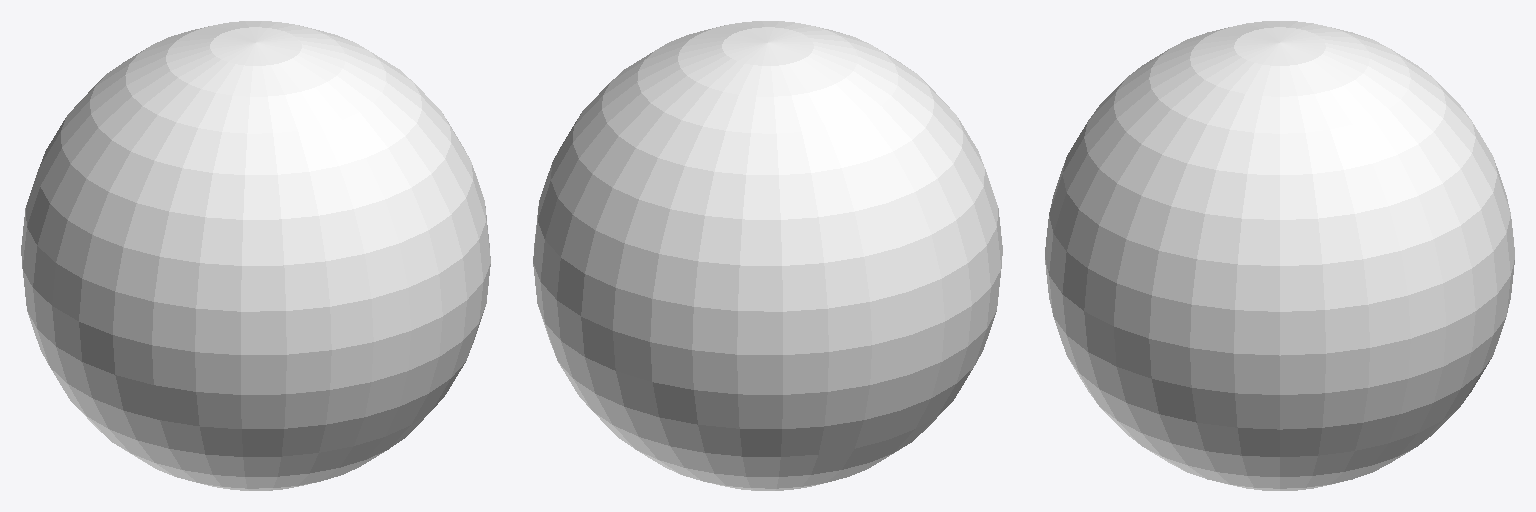
File: sphere_bulb4.obj
The picture shows the model from 3 angles: view 1: azimuth 30°, elevation 25°; view 2: azimuth 150°, elevation 25°; view 3: azimuth 270°, elevation 25°; orthographic projection.
Parts seen in each view (by area): view 1: bulb.003_Sphere.003; view 2: bulb.003_Sphere.003; view 3: bulb.003_Sphere.003.
Part boxes in pixels (left/top/right/bottom): bulb.003_Sphere.003: left=21, top=21, right=490, bottom=490; bulb.003_Sphere.003: left=533, top=21, right=1002, bottom=490; bulb.003_Sphere.003: left=1045, top=21, right=1514, bottom=490.
Bounding box in the file's own units: 0.9409 × 0.9409 × 0.9409.